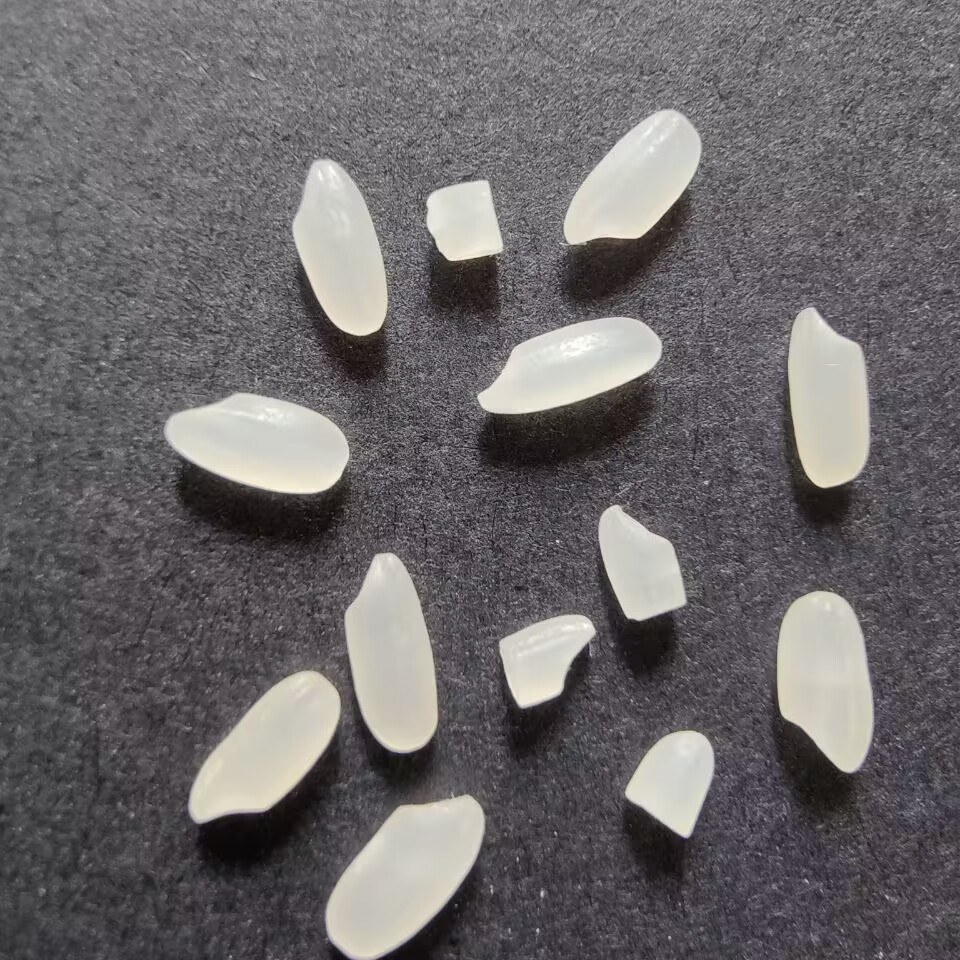broken: (597, 500, 691, 627), (618, 726, 717, 845), (492, 607, 597, 713), (419, 176, 507, 271)
rice: (318, 791, 490, 959), (179, 665, 343, 832), (340, 547, 446, 759), (152, 387, 354, 497), (559, 102, 709, 248), (467, 310, 669, 418), (770, 584, 881, 779), (289, 154, 392, 338), (784, 303, 878, 492)
